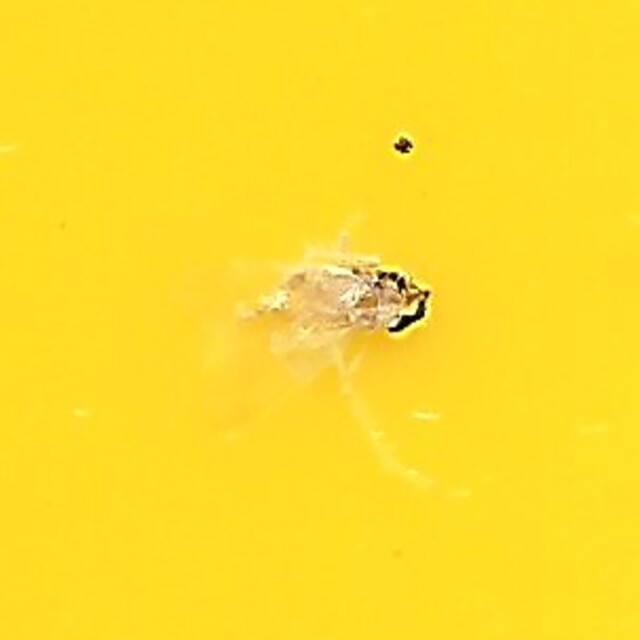Hemiptera: (211, 239, 429, 401)
